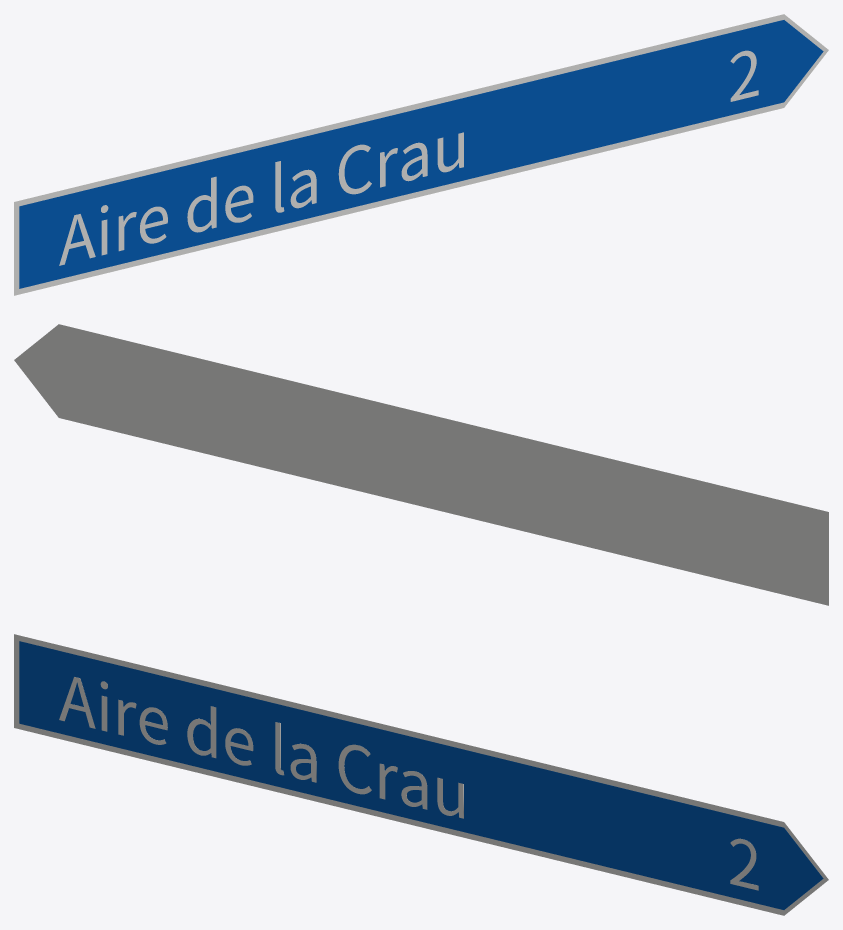
3 views of the same model, one above another, from view 1: azimuth 30°, elevation 25°; view 2: azimuth 150°, elevation 25°; view 3: azimuth 330°, elevation 25° (orthographic).
Parts seen in each view (by area): view 1: D46_reg01, D46_lis00, D46_txt02, D46_txt03; view 2: D46_lis00; view 3: D46_reg01, D46_lis00, D46_txt02, D46_txt03.
Part boxes in pixels (x1,y1,x2,y2): D46_reg01: (19, 20, 823, 288); D46_lis00: (14, 14, 828, 295); D46_txt02: (59, 132, 463, 265); D46_txt03: (730, 50, 758, 101); D46_lis00: (14, 324, 828, 605); D46_reg01: (19, 641, 823, 909); D46_lis00: (14, 634, 828, 915); D46_txt02: (59, 677, 463, 818); D46_txt03: (730, 838, 758, 890).
Bounding box in the file's own units: 5.82 × 0.64 × 0.0016.
